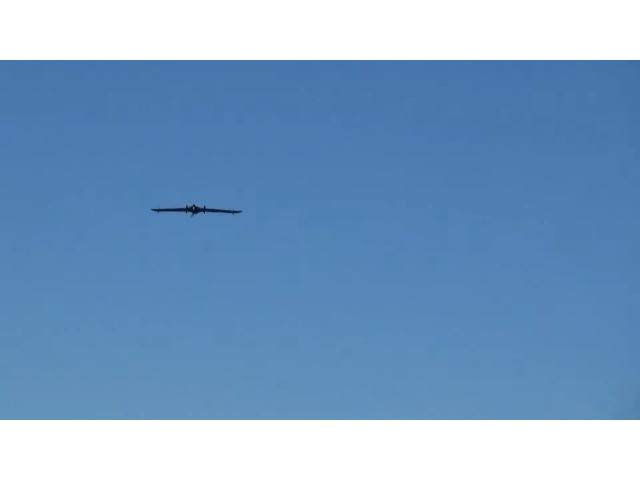Anti-Drone: (148, 190, 244, 224)
